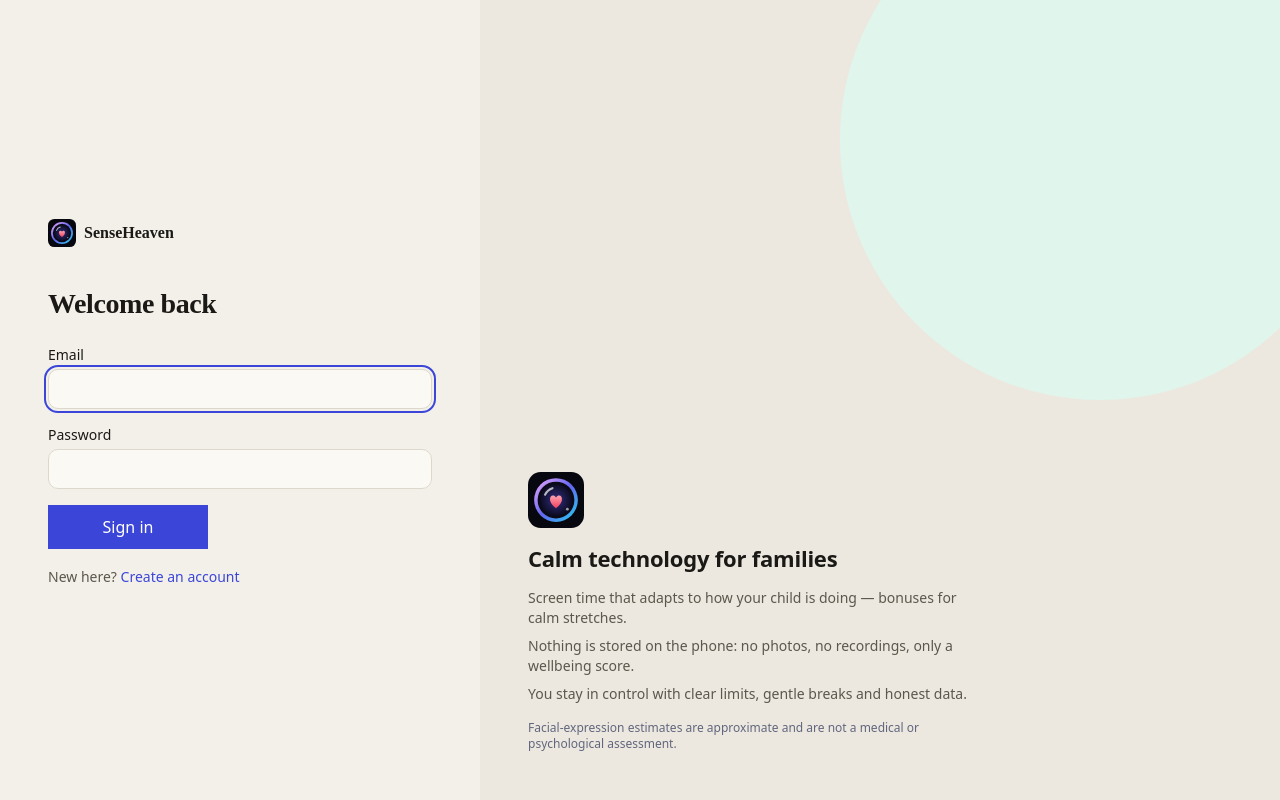
Test: auth pages (P4.7) › LoginPage shows a live countdown after RATE_LIMITED with Retry-After
Type "p@example.com" into the field labelled "Email" at (240, 389), box 48,369 -> 432,409
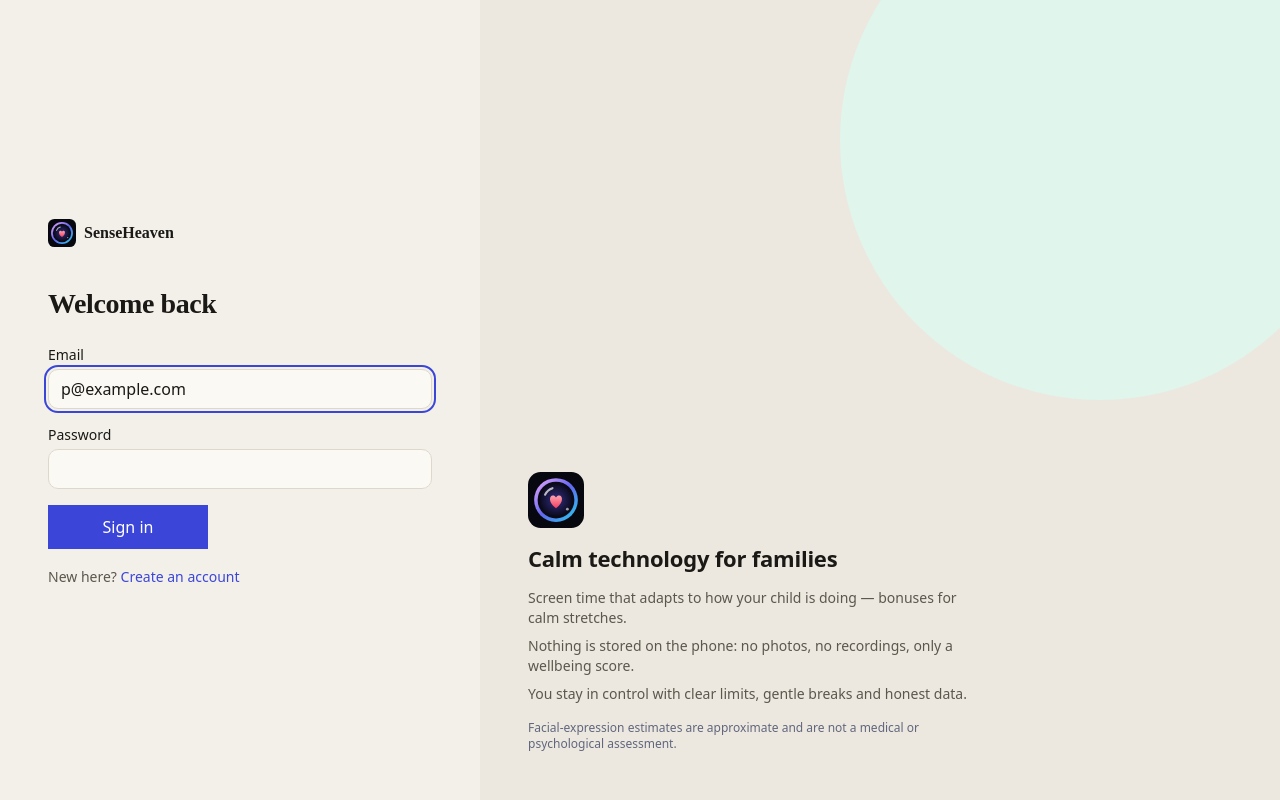
Type "secret-password" into the password field labelled "Password" at (240, 469), box 48,449 -> 432,489
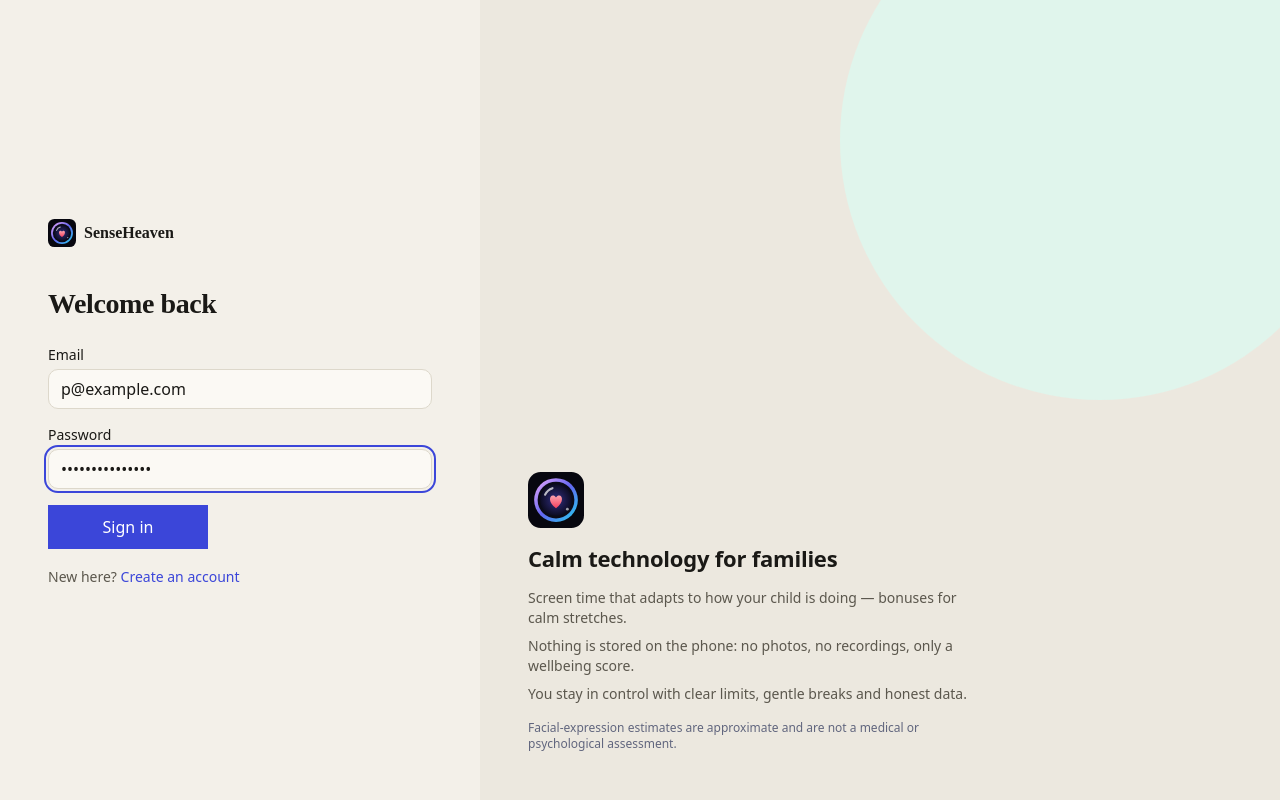
Click the button "Sign in" at (128, 527), box 48,505 -> 208,549
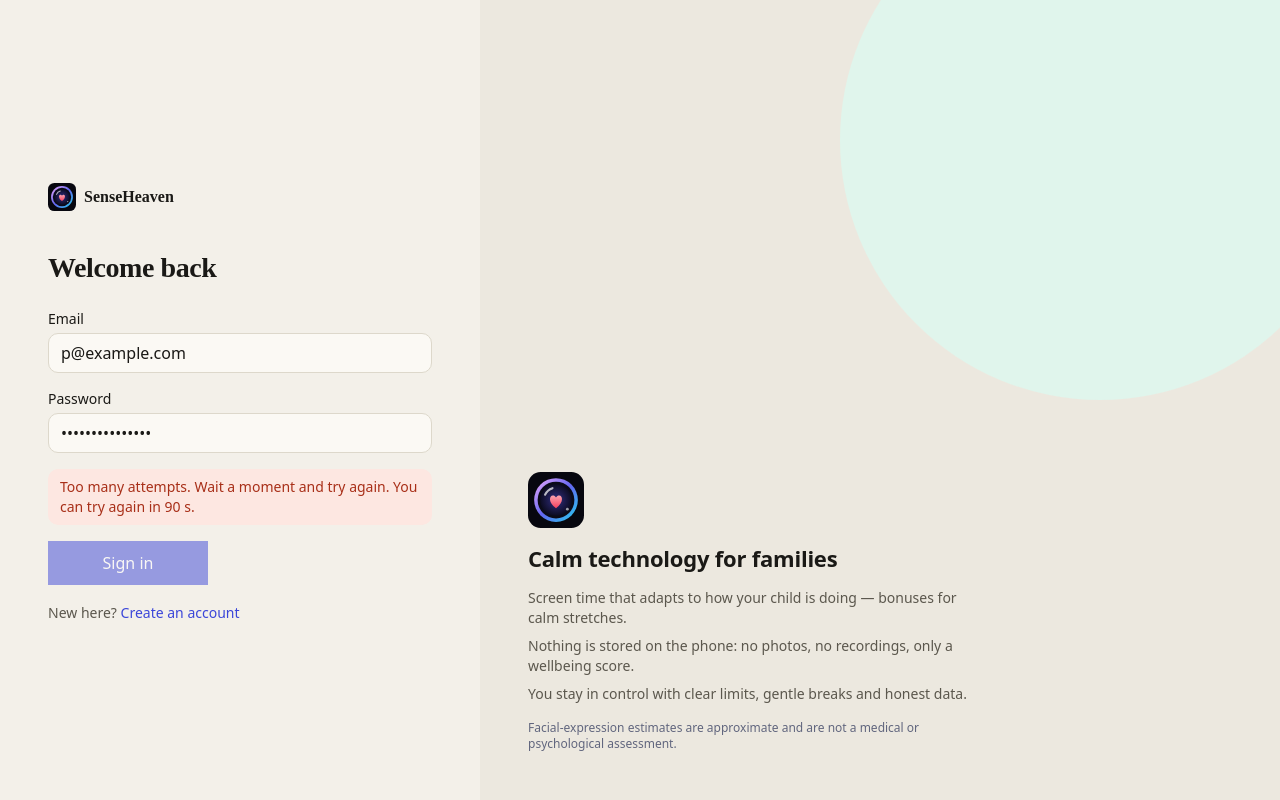
Now the message shows "try again in 90 s", box 60,477 -> 418,516
Now the button "Sign in" is disabled, box 48,541 -> 208,585
